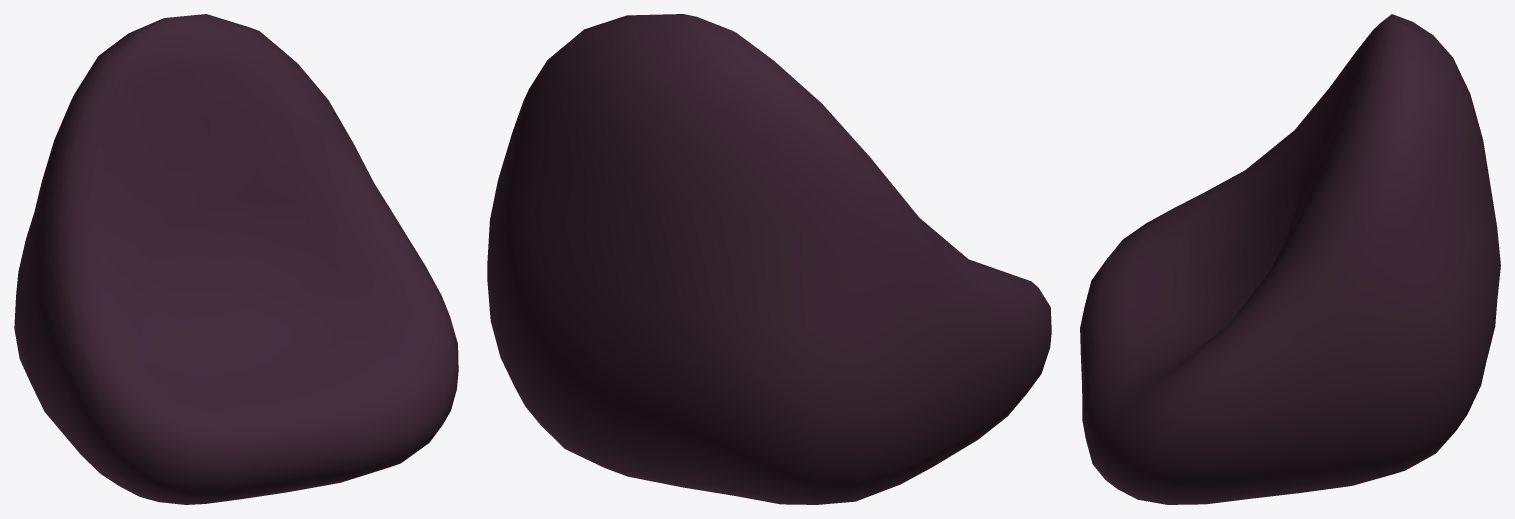
File: beanbag purple.fbx
3 renders of one model, left to right at view 1: azimuth 30°, elevation 25°; view 2: azimuth 150°, elevation 25°; view 3: azimuth 270°, elevation 25°, orthographic. The views are drawn at different scales.
Parts seen in each view (by area): view 1: Cube; view 2: Cube; view 3: Cube.
Part boxes in pixels (x1=…): Cube: x1=14, y1=14, x2=458, y2=504; Cube: x1=487, y1=14, x2=1051, y2=504; Cube: x1=1080, y1=14, x2=1500, y2=504.
Bounding box in the file's own units: 96.18 × 98.68 × 87.58.
